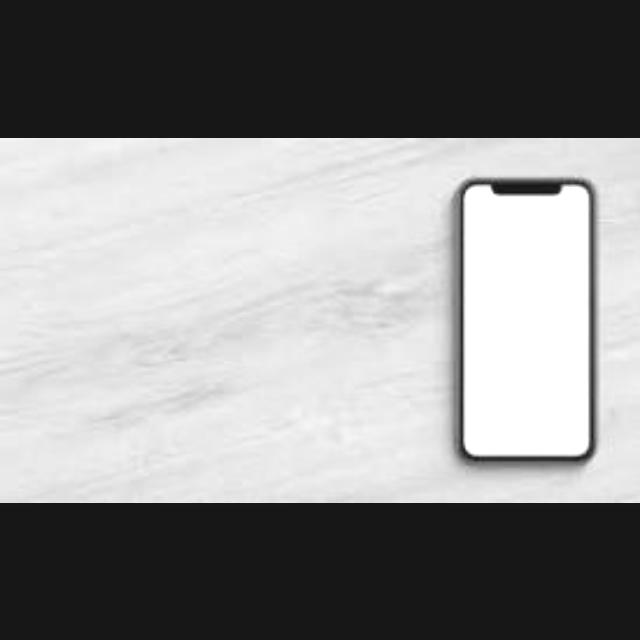fake: (455, 182, 593, 464)
